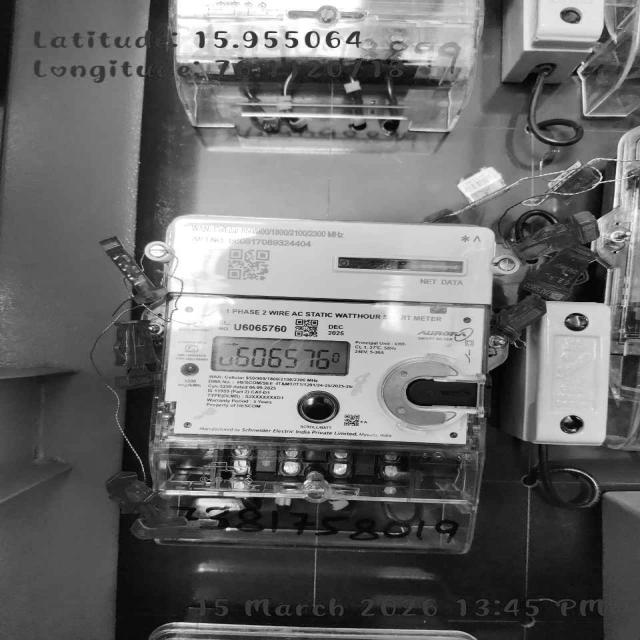meter: (167, 222, 489, 441)
